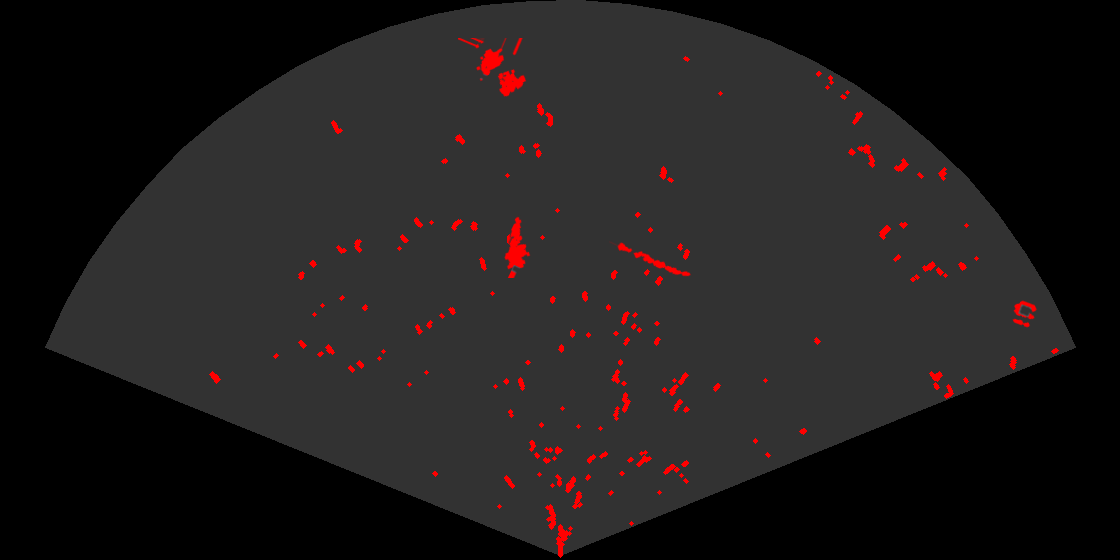ball: (1011, 299, 1039, 329)
cage: (458, 38, 528, 98)
chain: (609, 240, 693, 278)
frogman: (503, 214, 532, 278)
